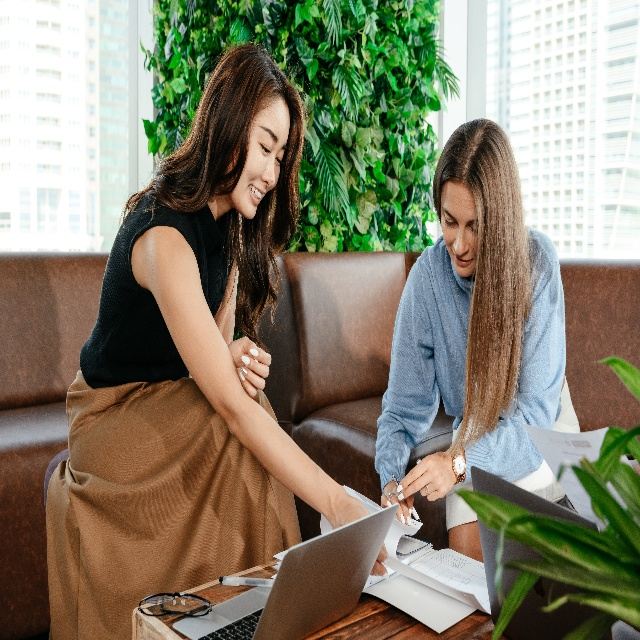Gafas: (138, 587, 212, 619)
Sin_guantes: (331, 487, 388, 581), (393, 454, 452, 504), (230, 330, 270, 392), (380, 480, 412, 528)
